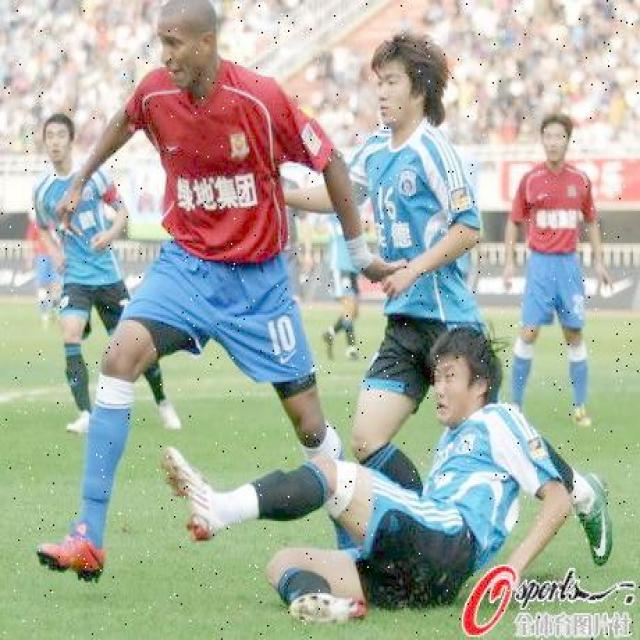fall: (214, 352, 558, 613)
